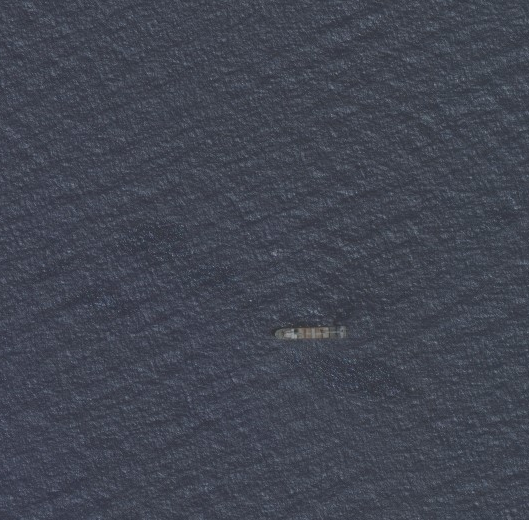ship: (269, 323, 355, 345)
